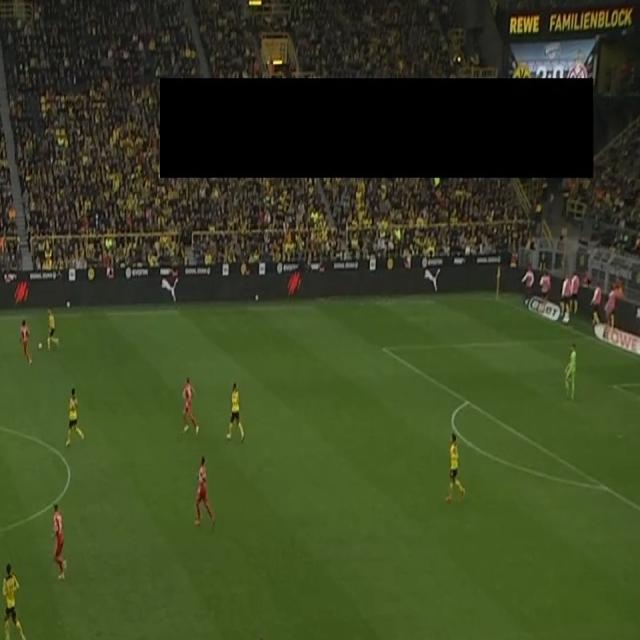ball: (37, 341, 43, 352)
